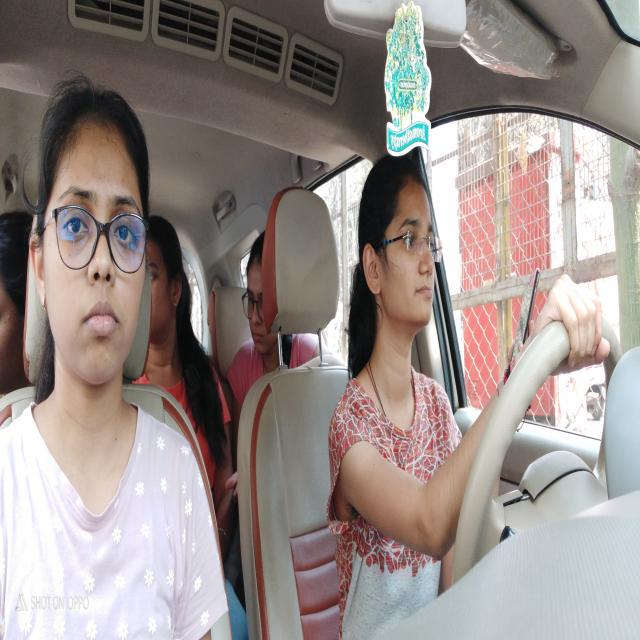mobile: (505, 262, 540, 383)
person: (30, 92, 148, 390), (356, 150, 445, 337), (0, 208, 33, 402), (146, 221, 186, 349), (238, 230, 272, 363)
